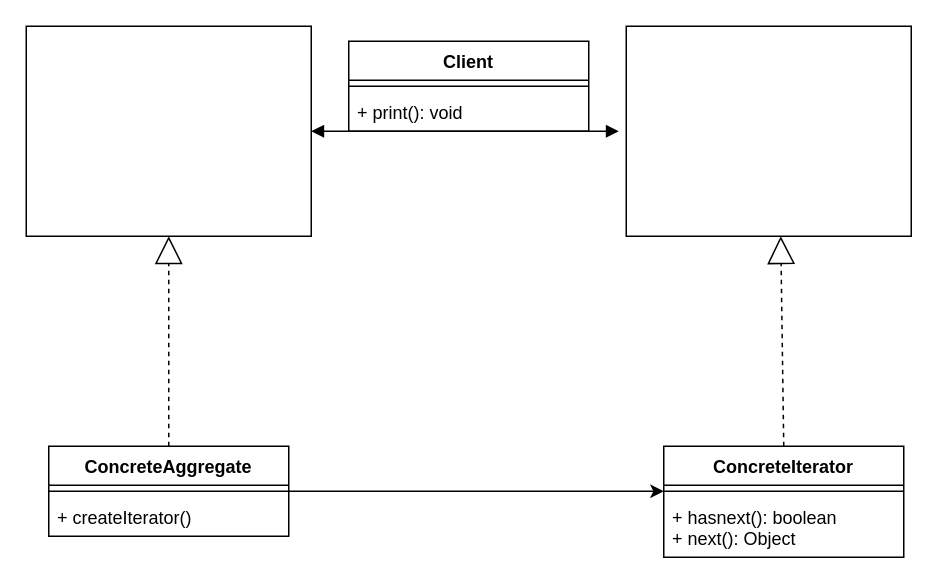
The diagram is 938 pixels wide and 588 high, and some of its shapes have lost their labels. The centre of each missing label's shape, as x and y in pixels:
"<<Interface>> Aggregate + createIterator()" belongs at pixel 168 130.
"<<Interface>> iterator + hasNext(): boolean + next(): Object" belongs at pixel 768 130.
